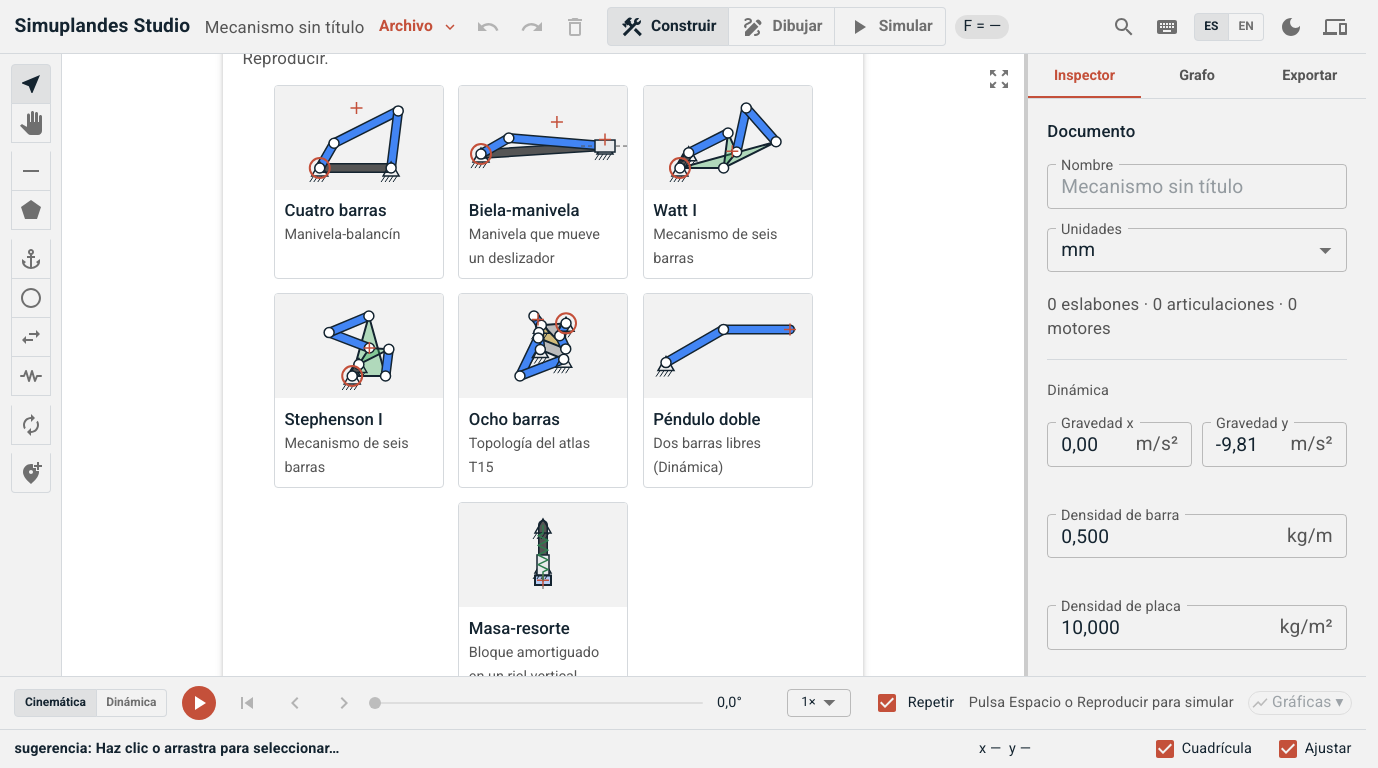
Test: App › File menu contains Load example
Click the button "Archivo": (418, 27) [374, 9, 462, 44]
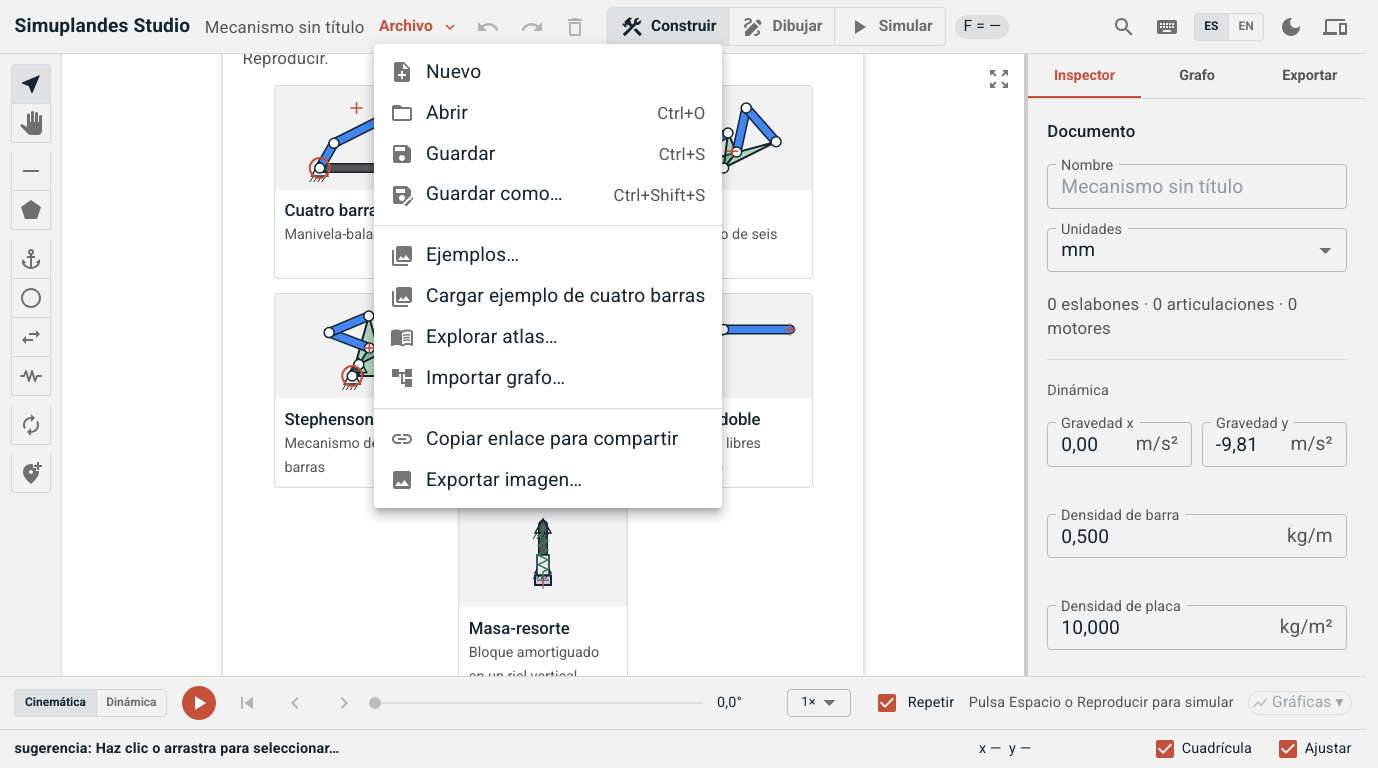
Check: the menu item "Cargar ejemplo de cuatro barras" is shown, box [390, 284, 706, 309]
